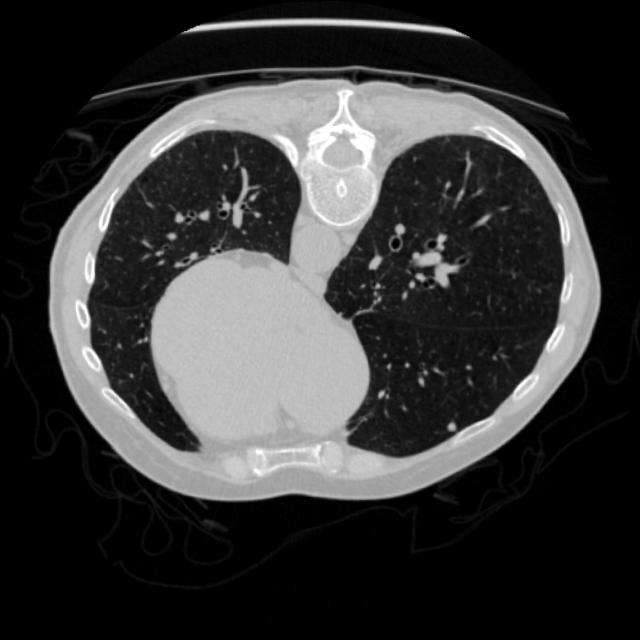nodule: (440, 415, 463, 438)
